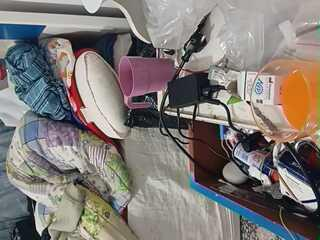cup: (251, 59, 319, 141), (118, 56, 174, 108)
